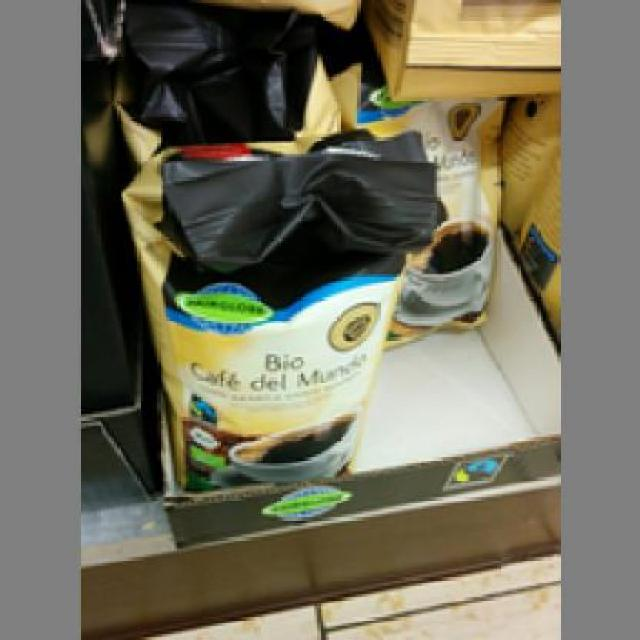Coffee: (119, 122, 435, 488)
